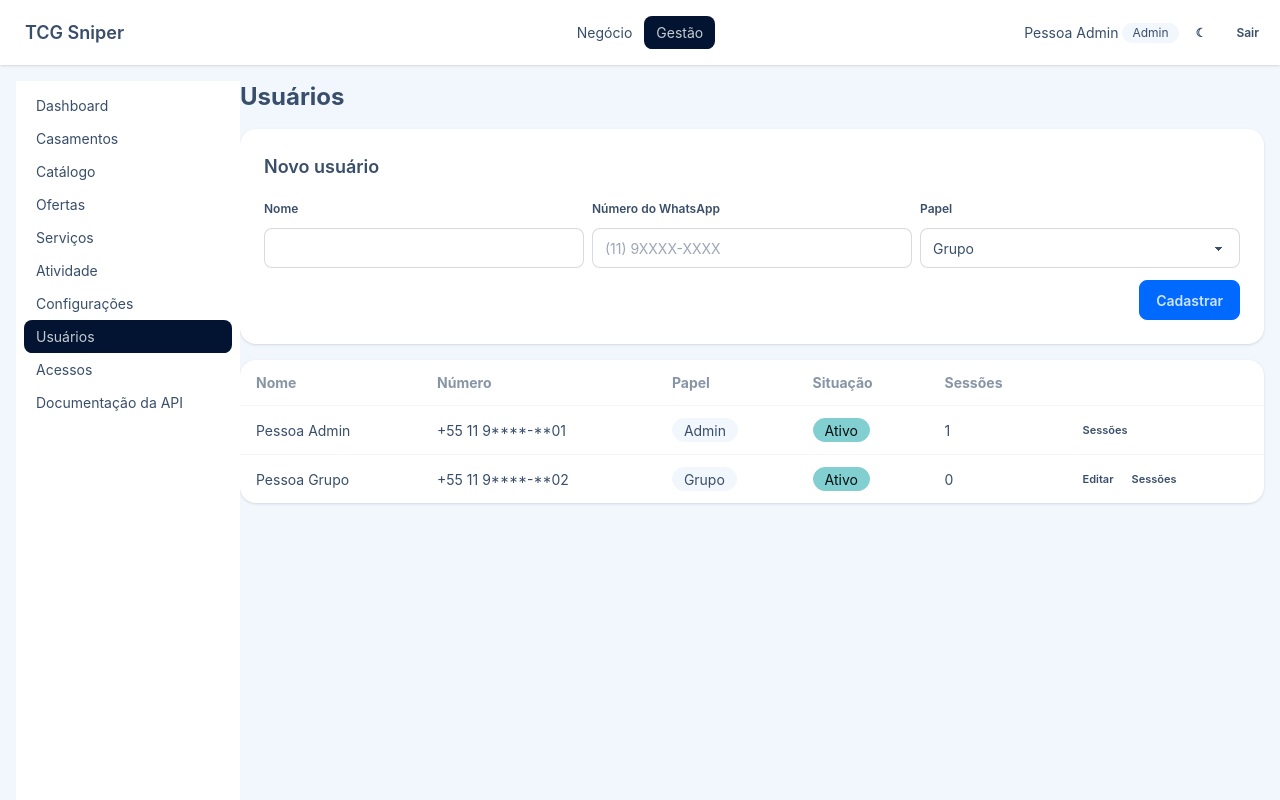
it: Gestão → Usuários › desativar manda PATCH com ativo false
The image size is (1280, 800).
Expected: the table is shown, [240,360,1264,503]
Click the button "Editar" at (1098, 479), box [1074,467,1122,491]
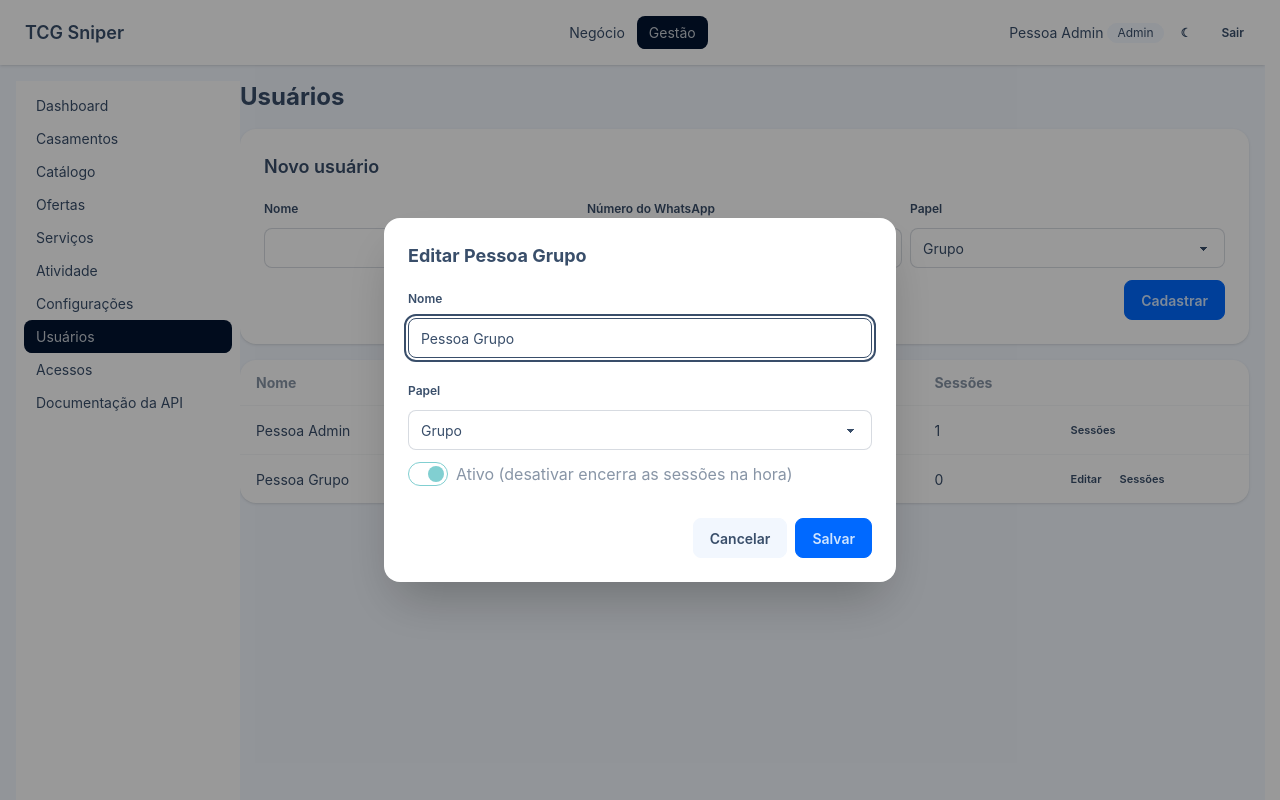
Click the checkbox labelled "Ativo (desativar encerra as sessões na hora)" at (428, 474), box [408,462,448,486]
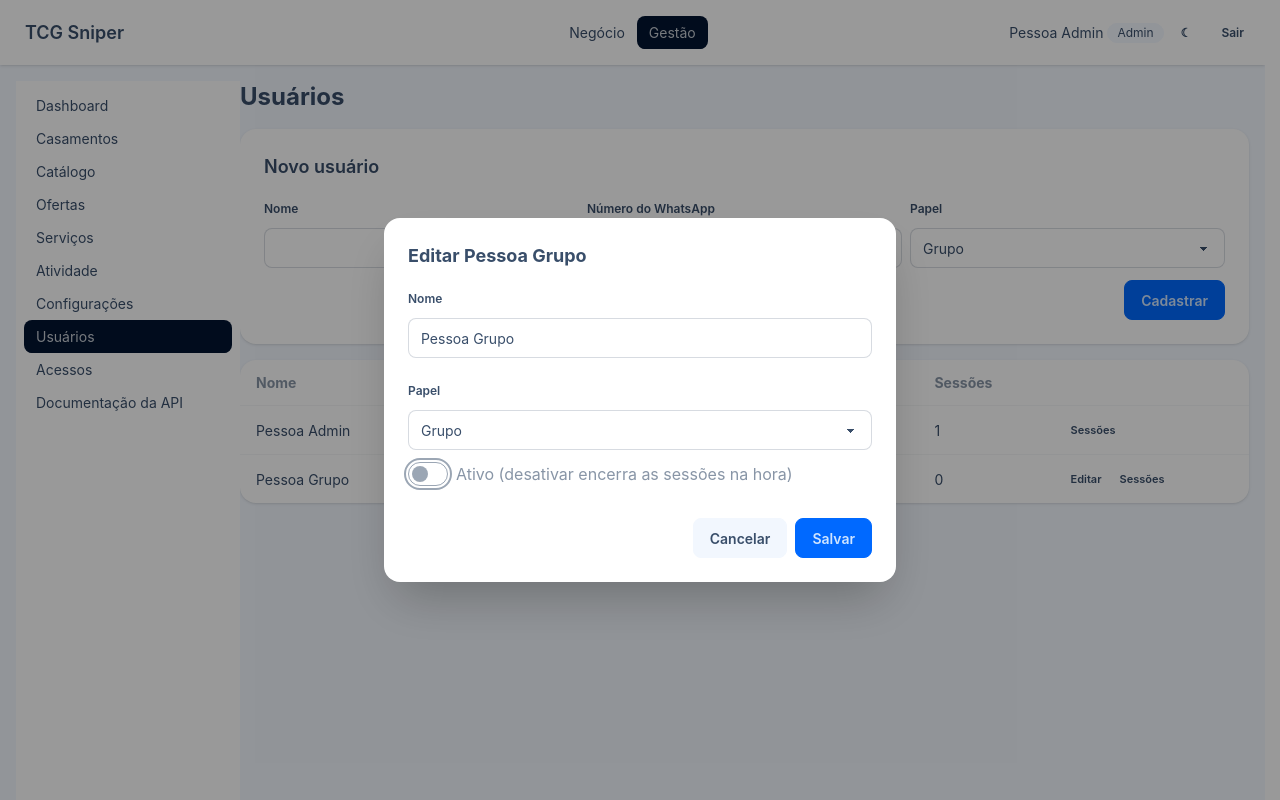
Click the button "Salvar" at (834, 538), box [795,518,872,558]
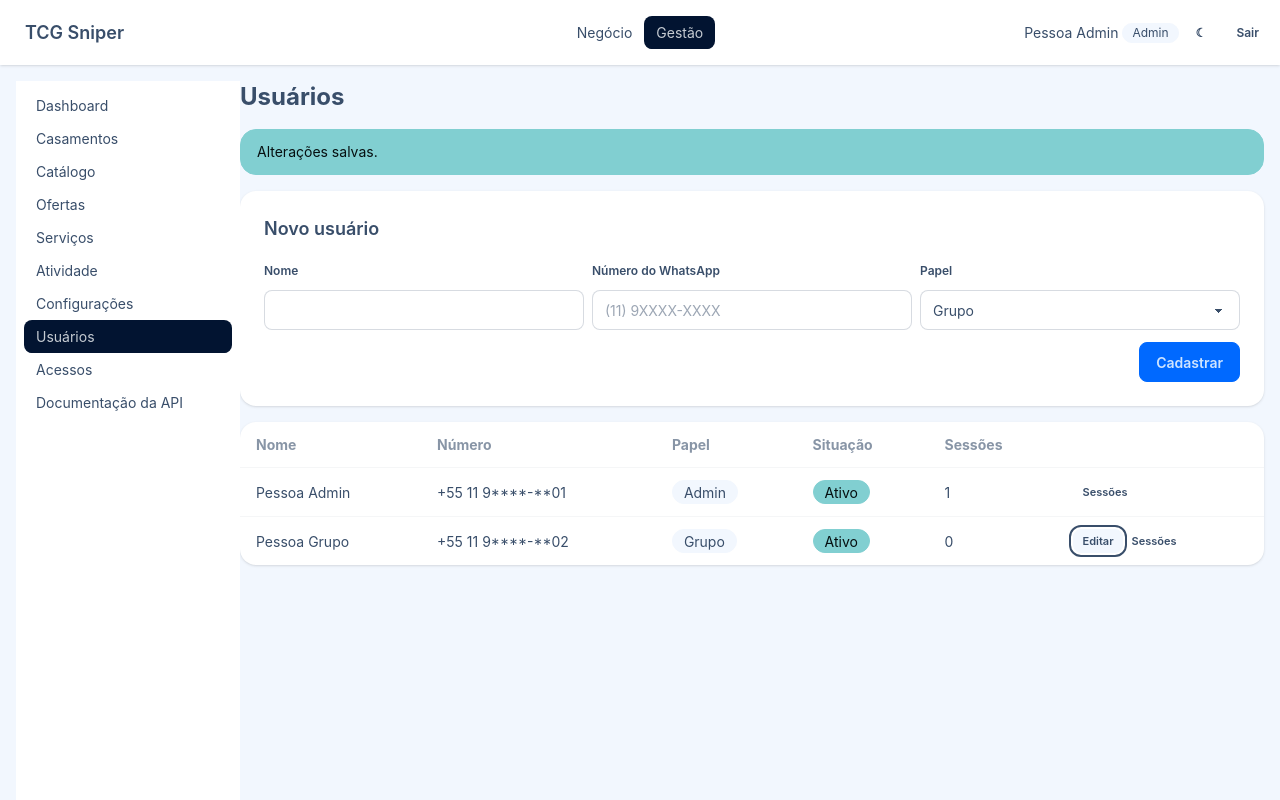
Now the text "Alterações salvas." is shown, box [240,129,1264,175]
